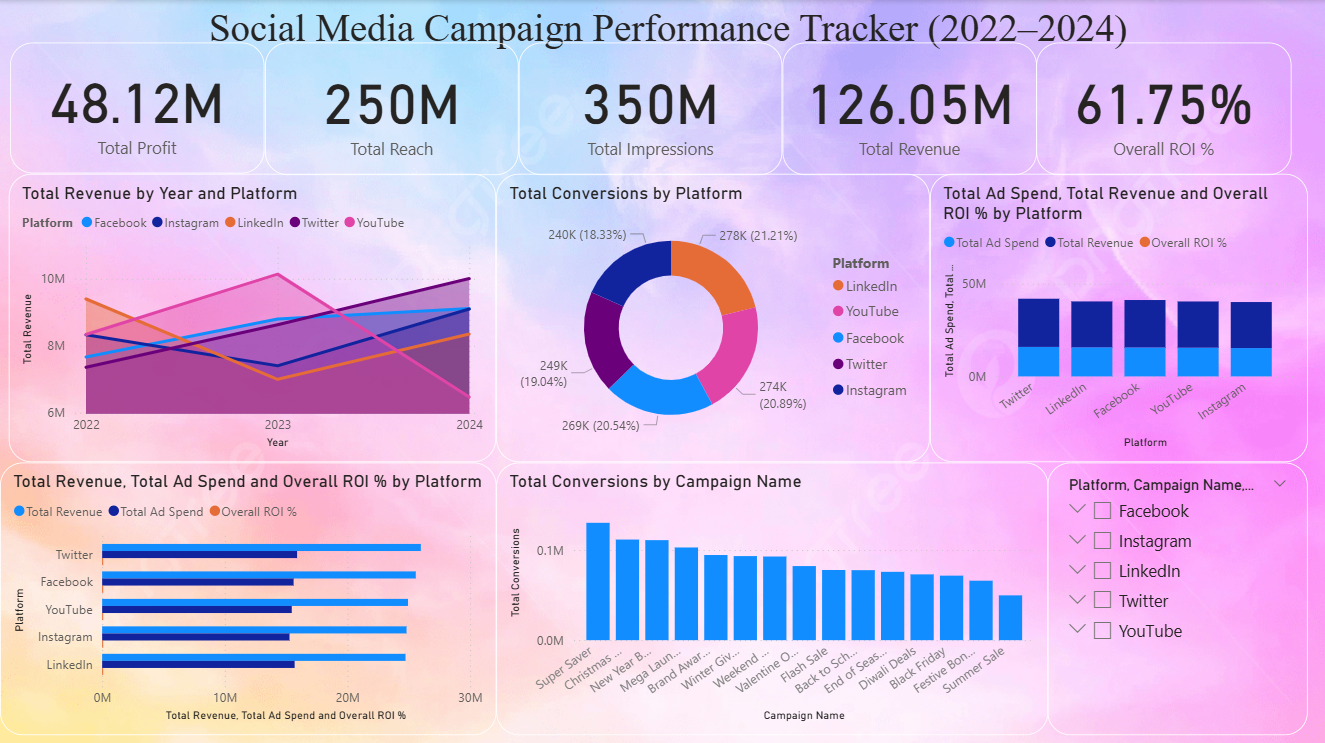

Layout of this report page (visuals, bound fields, positions):
{"tool":"powerbi","page":{"name":"Page 1","canvas":[1280,720],"ordinal":0},"visuals":[{"type":"textbox","box":[9.6,0,1270.7,56.3],"z":0},{"type":"card","fields":{"Values":["SocialMedia_Campaign_Data_1000.Total Profit"]},"box":[9.6,41.2,245.6,126.2],"z":1000},{"type":"card","fields":{"Values":["SocialMedia_Campaign_Data_1000.Total Reach"]},"box":[255.8,41,244.9,127.9],"z":2000},{"type":"card","fields":{"Values":["SocialMedia_Campaign_Data_1000.Total Impressions"]},"box":[500.7,41,254.6,127.9],"z":3000},{"type":"card","fields":{"Values":["SocialMedia_Campaign_Data_1000.Total Revenue"]},"box":[754.7,41.2,245.6,127.6],"z":4000},{"type":"card","fields":{"Values":["SocialMedia_Campaign_Data_1000.Overall ROI %"]},"box":[1000.1,41,246.1,127.9],"z":5000},{"type":"areaChart","fields":{"Category":["SocialMedia_Campaign_Data_1000.Date.Variation.Date Hierarchy.Year","SocialMedia_Campaign_Data_1000.Date.Variation.Date Hierarchy.Quarter","SocialMedia_Campaign_Data_1000.Date.Variation.Date Hierarchy.Month","SocialMedia_Campaign_Data_1000.Date.Variation.Date Hierarchy.Day"],"Y":["SocialMedia_Campaign_Data_1000.Total Revenue"],"Series":["SocialMedia_Campaign_Data_1000.Platform"]},"box":[8.2,167.4,470.7,278.6],"z":6000},{"type":"clusteredBarChart","fields":{"Category":["SocialMedia_Campaign_Data_1000.Platform"],"Y":["SocialMedia_Campaign_Data_1000.Total Revenue","SocialMedia_Campaign_Data_1000.Total Ad Spend","SocialMedia_Campaign_Data_1000.Overall ROI %"]},"box":[0,446,478.9,263.5],"z":7000},{"type":"donutChart","fields":{"Category":["SocialMedia_Campaign_Data_1000.Platform"],"Y":["SocialMedia_Campaign_Data_1000.Total Conversions"]},"box":[478.9,167.4,418.5,278.6],"z":8000},{"type":"columnChart","fields":{"Category":["SocialMedia_Campaign_Data_1000.Campaign Name"],"Y":["SocialMedia_Campaign_Data_1000.Total Conversions"]},"box":[478.9,446,532.4,263.5],"z":9000},{"type":"lineStackedColumnComboChart","fields":{"Category":["SocialMedia_Campaign_Data_1000.Platform"],"Y":["SocialMedia_Campaign_Data_1000.Total Ad Spend","SocialMedia_Campaign_Data_1000.Total Revenue","SocialMedia_Campaign_Data_1000.Overall ROI %"]},"box":[897.4,167.4,365,278.6],"z":10000},{"type":"slicer","fields":{"Values":["SocialMedia_Campaign_Data_1000.Platform","SocialMedia_Campaign_Data_1000.Campaign Name","SocialMedia_Campaign_Data_1000.Date.Variation.Date Hierarchy.Year"]},"box":[1011.3,446,251.1,263.5],"z":11000}]}

Visuals, with their boxes in screenshot pixels (x1, y1, x2, y2), scaled from the page's 1280x720 canvas onto the 1325x743 screenshot:
textbox: pyautogui.locateOnScreen(10, 0, 1324, 58)
card - SocialMedia_Campaign_Data_1000.Total Profit: pyautogui.locateOnScreen(10, 43, 264, 173)
card - SocialMedia_Campaign_Data_1000.Total Reach: pyautogui.locateOnScreen(265, 42, 518, 174)
card - SocialMedia_Campaign_Data_1000.Total Impressions: pyautogui.locateOnScreen(518, 42, 782, 174)
card - SocialMedia_Campaign_Data_1000.Total Revenue: pyautogui.locateOnScreen(781, 43, 1035, 174)
card - SocialMedia_Campaign_Data_1000.Overall ROI %: pyautogui.locateOnScreen(1035, 42, 1290, 174)
areaChart - SocialMedia_Campaign_Data_1000.Date.Variation.Date Hierarchy.Year x SocialMedia_Campaign_Data_1000.Date.Variation.Date Hierarchy.Quarter: pyautogui.locateOnScreen(8, 173, 496, 460)
clusteredBarChart - SocialMedia_Campaign_Data_1000.Platform x SocialMedia_Campaign_Data_1000.Total Revenue: pyautogui.locateOnScreen(0, 460, 496, 732)
donutChart - SocialMedia_Campaign_Data_1000.Platform x SocialMedia_Campaign_Data_1000.Total Conversions: pyautogui.locateOnScreen(496, 173, 929, 460)
columnChart - SocialMedia_Campaign_Data_1000.Campaign Name x SocialMedia_Campaign_Data_1000.Total Conversions: pyautogui.locateOnScreen(496, 460, 1047, 732)
lineStackedColumnComboChart - SocialMedia_Campaign_Data_1000.Platform x SocialMedia_Campaign_Data_1000.Total Ad Spend: pyautogui.locateOnScreen(929, 173, 1307, 460)
slicer - SocialMedia_Campaign_Data_1000.Platform x SocialMedia_Campaign_Data_1000.Campaign Name: pyautogui.locateOnScreen(1047, 460, 1307, 732)
